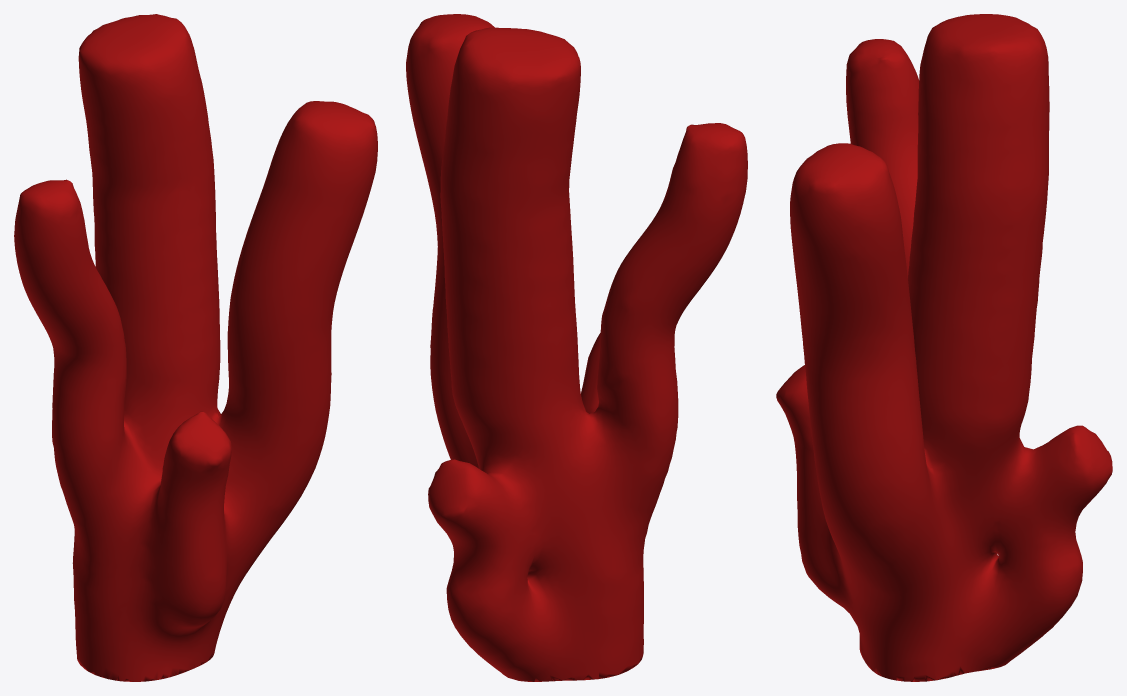
Rendered from Corail 3.glb.
3 views of the same model, side by side, from view 1: azimuth 30°, elevation 25°; view 2: azimuth 150°, elevation 25°; view 3: azimuth 270°, elevation 25° (orthographic). The views are drawn at different scales.
Visible parts, largest first — view 1: Tube; view 2: Tube; view 3: Tube.
Boxes of the visible parts, left/top/right/bottom form: Tube: left=14, top=14, right=377, bottom=681; Tube: left=406, top=14, right=747, bottom=681; Tube: left=776, top=14, right=1112, bottom=681.
Size of the model in its own units: 3.57 by 6.14 by 2.93.
